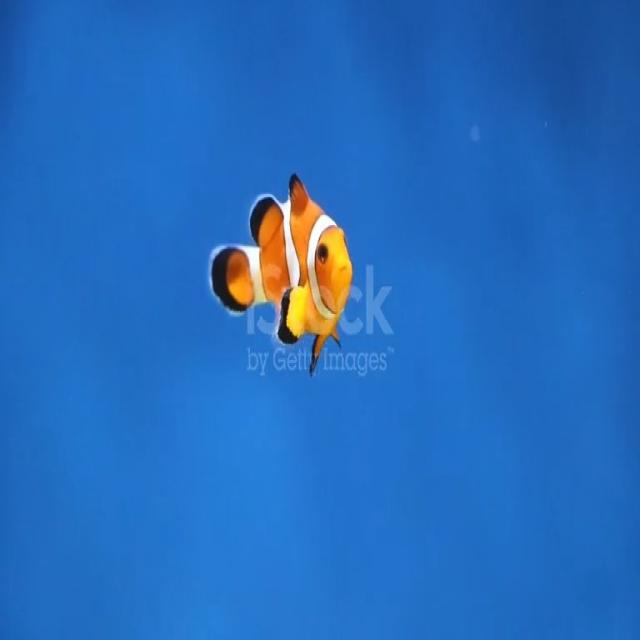fish: (208, 158, 355, 385)
